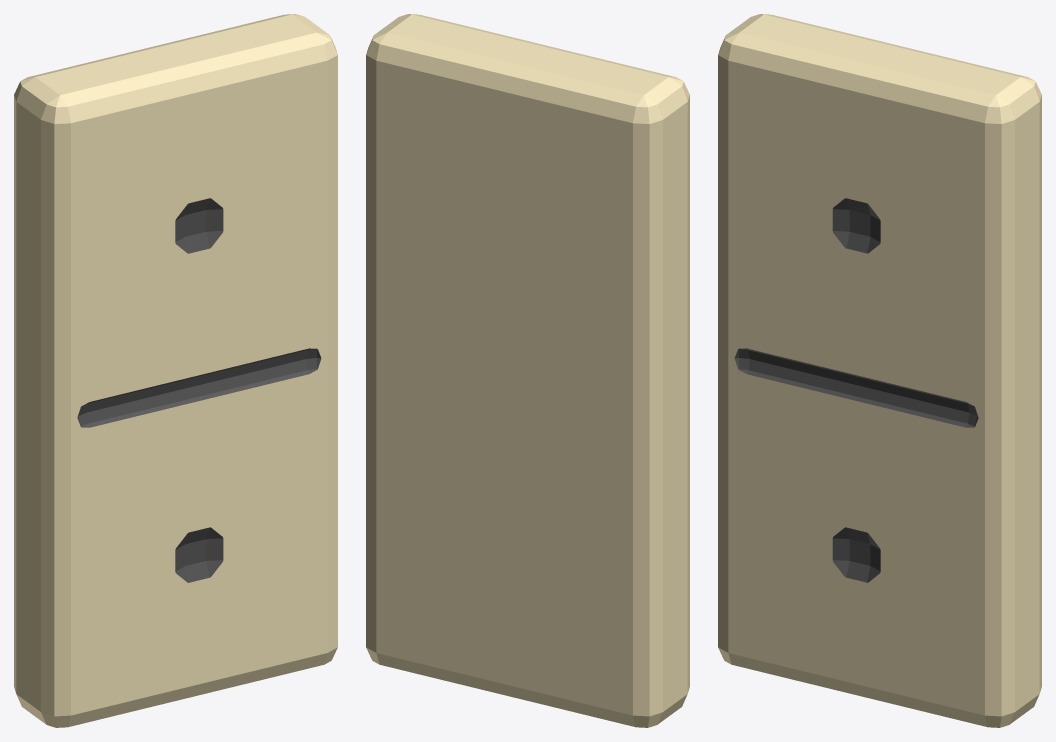
The model's file is dominoes 1x1.fbx.
The picture shows the model from 3 angles, left to right: view 1: azimuth 30°, elevation 25°; view 2: azimuth 150°, elevation 25°; view 3: azimuth 330°, elevation 25°; orthographic projection.
Visible parts, largest first — view 1: Boole_4; view 2: Boole_4; view 3: Boole_4.
Boxes of the visible parts, <box> form: Boole_4: <box>14,14,337,727</box>; Boole_4: <box>366,14,689,727</box>; Boole_4: <box>718,14,1041,727</box>.
Size of the model in its own units: 200 by 410 by 55.02.
